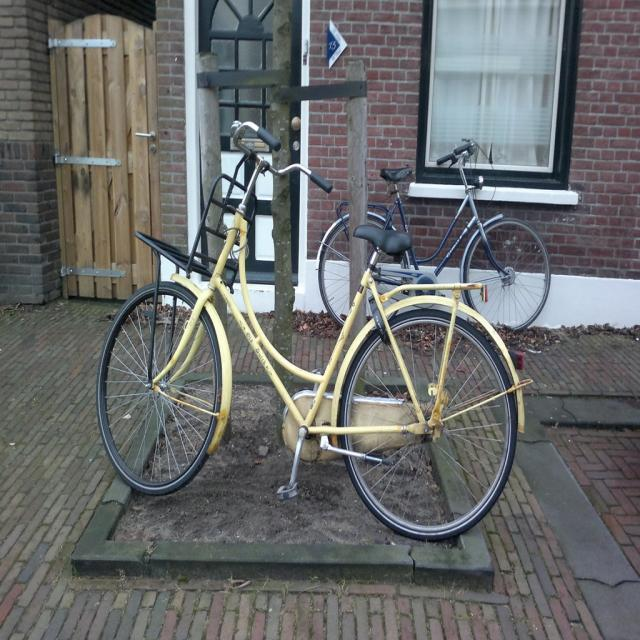car: (82, 110, 537, 551), (309, 136, 552, 334)
